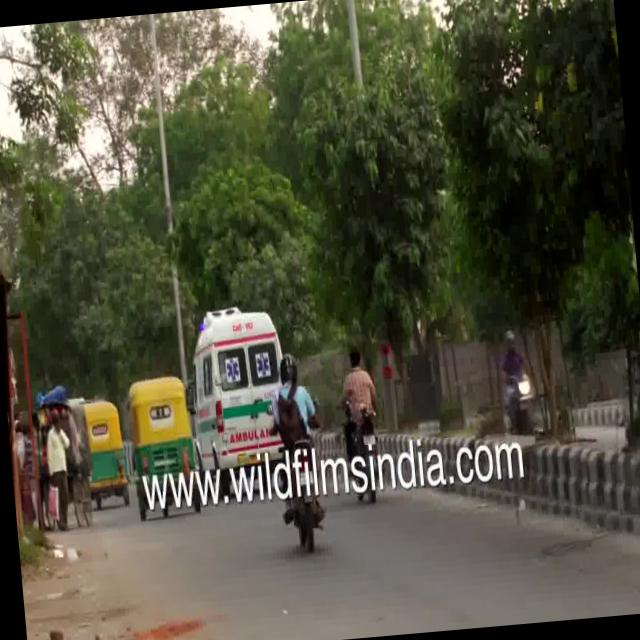ambulance: (180, 300, 282, 462)
